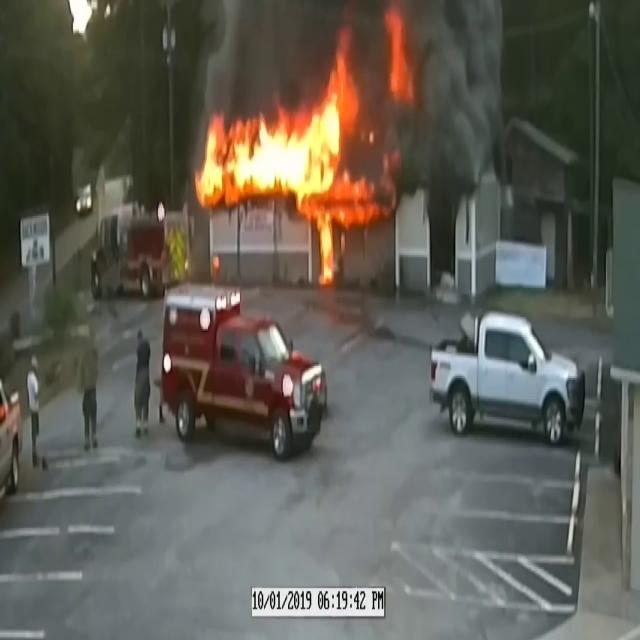Fire: (195, 69, 373, 248)
Smoke: (394, 1, 517, 218)
